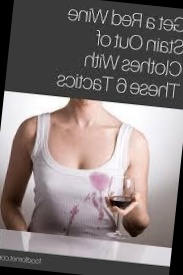wine: (56, 196, 87, 235), (86, 190, 109, 228), (84, 170, 117, 196)
